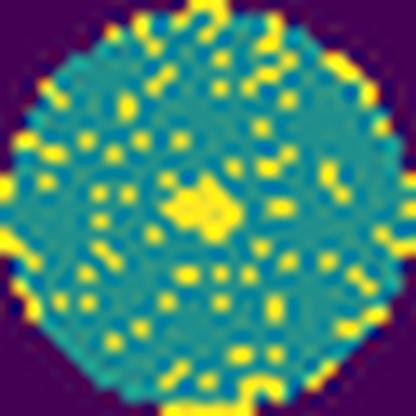Center: (154, 170, 254, 245)
